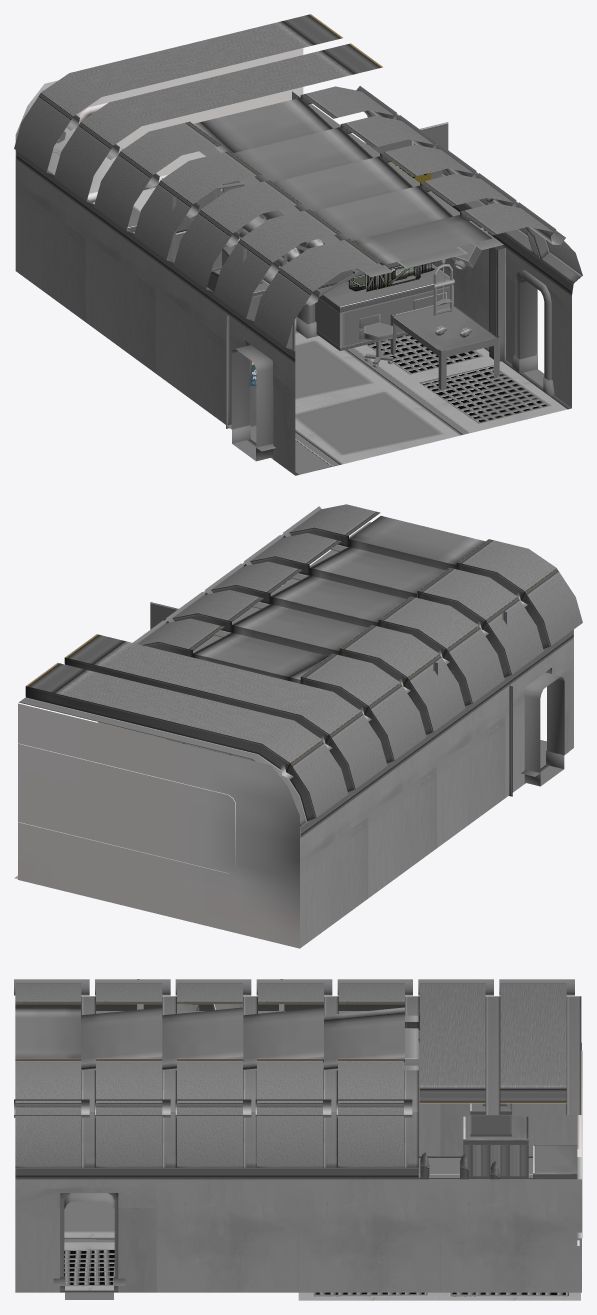
The model's file is MSH_Armory_room_L3_R1_optimized.fbx.
The picture shows the model from 3 angles, top to bottom: view 1: azimuth 30°, elevation 25°; view 2: azimuth 150°, elevation 25°; view 3: azimuth 270°, elevation 25°; orthographic projection. The views are drawn at different scales.
Parts seen in each view (by area): view 1: lightmap1, lightmap0, lightmap-1; view 2: lightmap1, lightmap-1; view 3: lightmap1, lightmap0, lightmap-1.
Part boxes in pixels (x1,y1,x2,y2): lightmap1: [14, 14, 582, 475]; lightmap0: [52, 131, 499, 426]; lightmap-1: [231, 279, 544, 461]; lightmap1: [14, 504, 582, 948]; lightmap-1: [524, 672, 564, 786]; lightmap1: [14, 979, 582, 1300]; lightmap0: [137, 979, 577, 1179]; lightmap-1: [64, 1193, 114, 1299].
Size of the model in its own units: 10.47 by 6.28 by 16.57.
